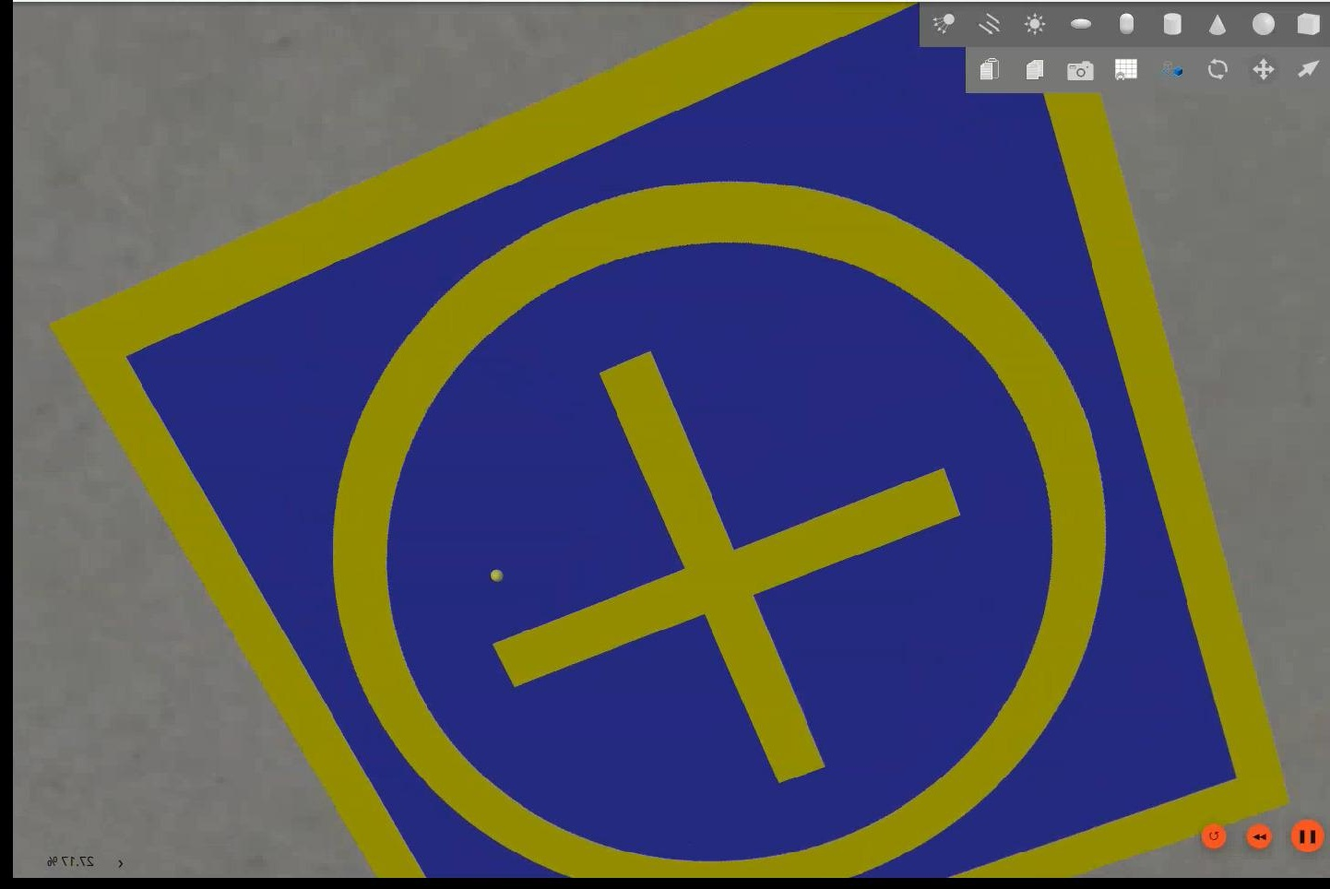small_base: (56, 1, 1284, 880)
